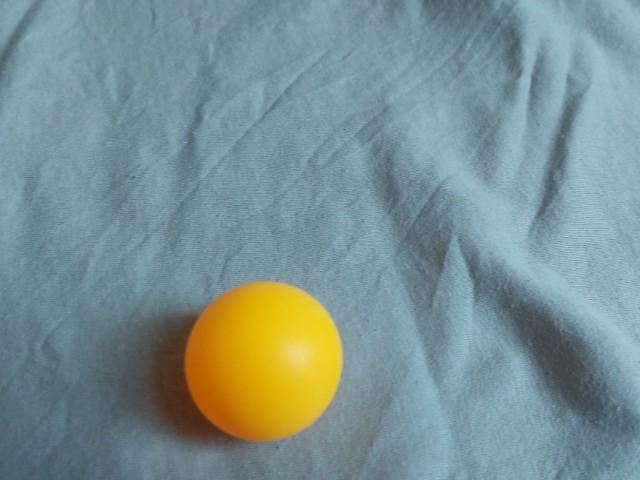oball: (174, 276, 348, 449)
